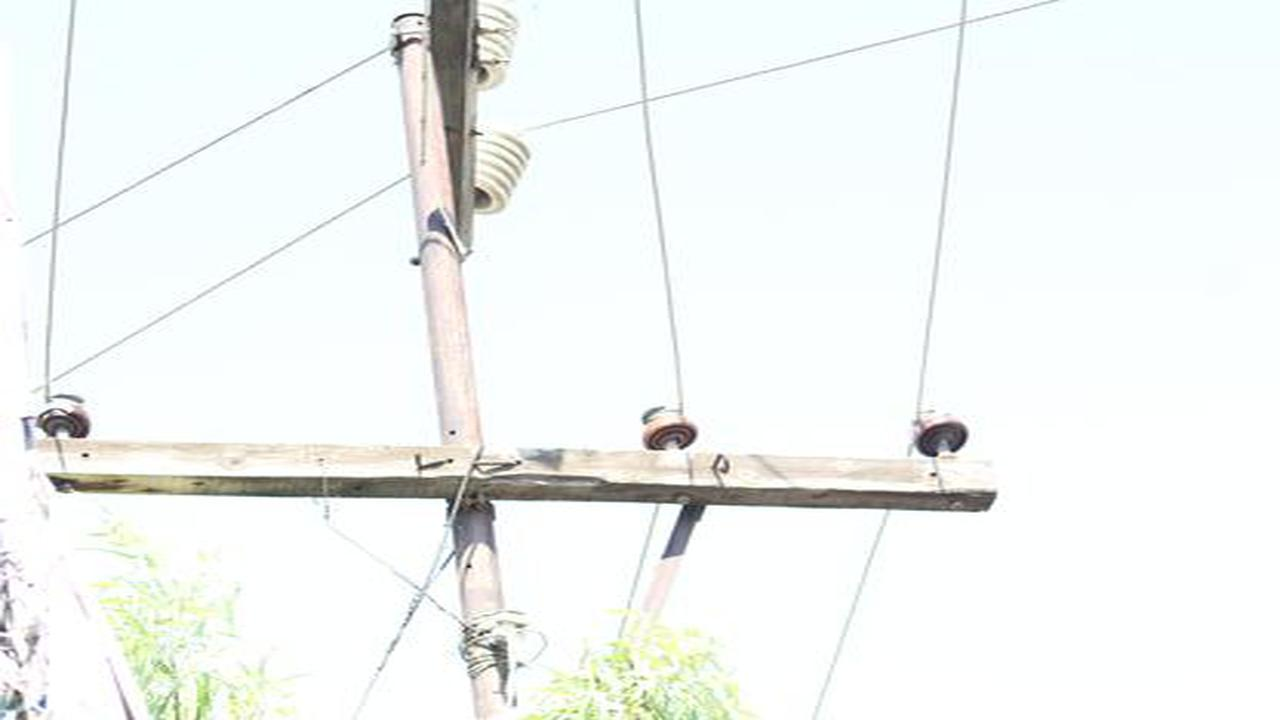defect_pin: (33, 387, 93, 446)
insulator_pin: (901, 404, 973, 456), (637, 401, 701, 452)
